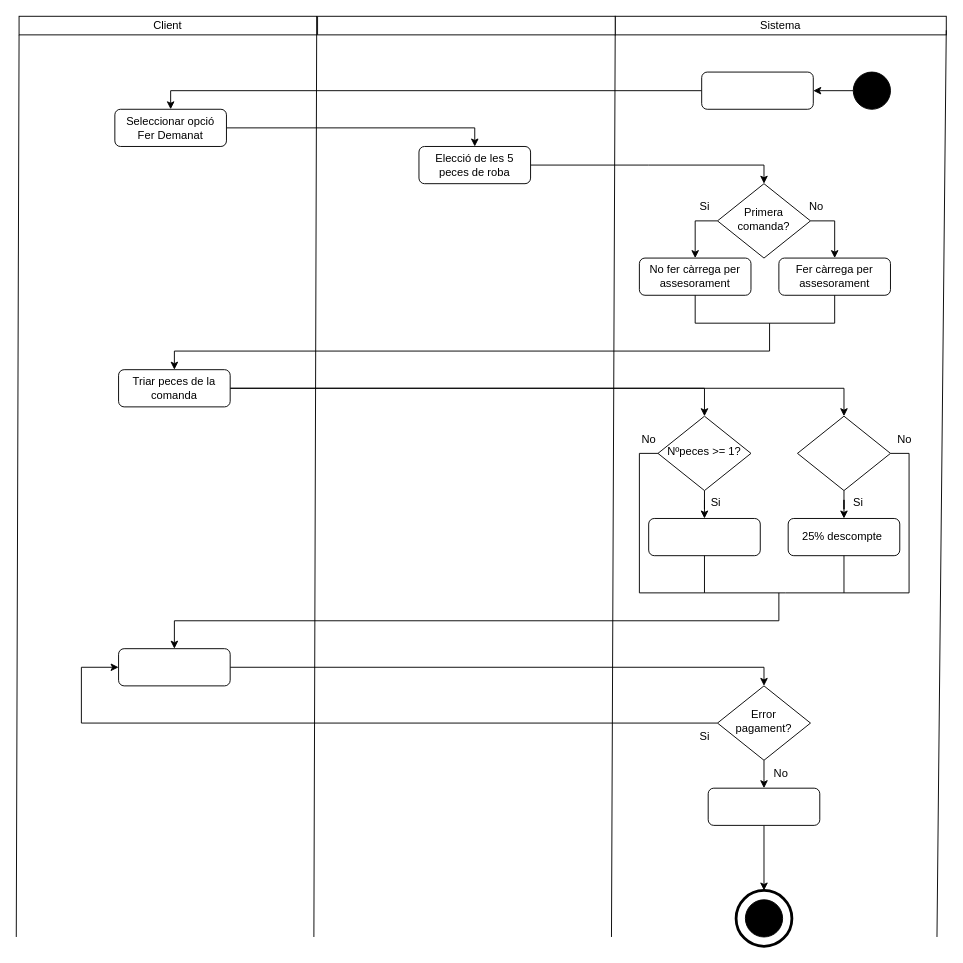
This 963x963 diagram has some shape labels left out. The shapes that lost their labels are listed below. From the top down, each one's centre as x and y in pixels, then its label:
the point at 466,25: Personal Shopper
the point at 757,90: Mostrar opcions
the point at 843,453: Nºpeces == 5?
the point at 704,537: Descompte 10€ assesorament
the point at 174,667: Triar mètode de pagament
the point at 763,806: Processar pagament
